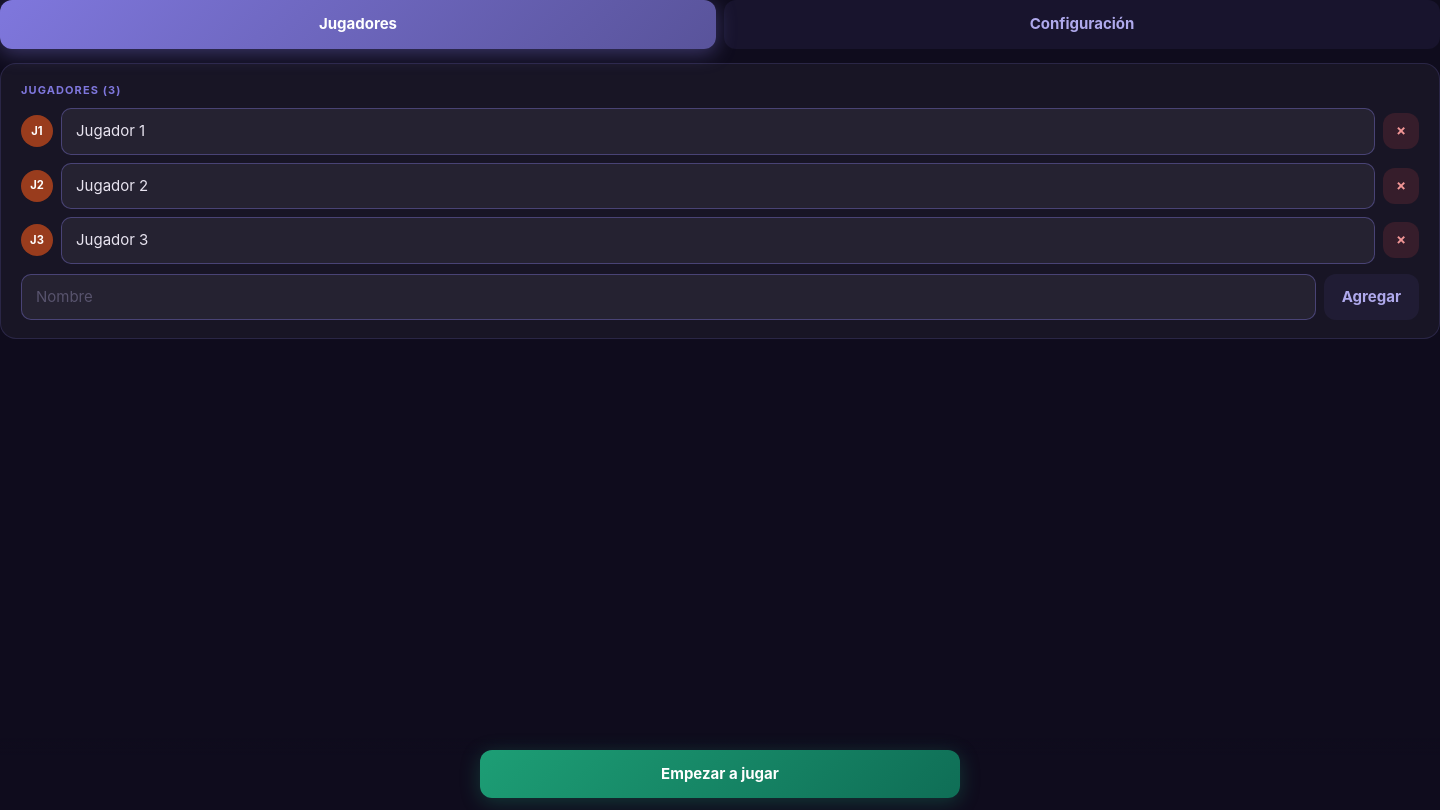
Limón Limón LocalGame › ending the match early asks for confirmation and shows the result
The width and height of the screenshot is (1440, 810).
Click the button "Empezar a jugar" at coordinates (720, 774), box [480,750,960,798]
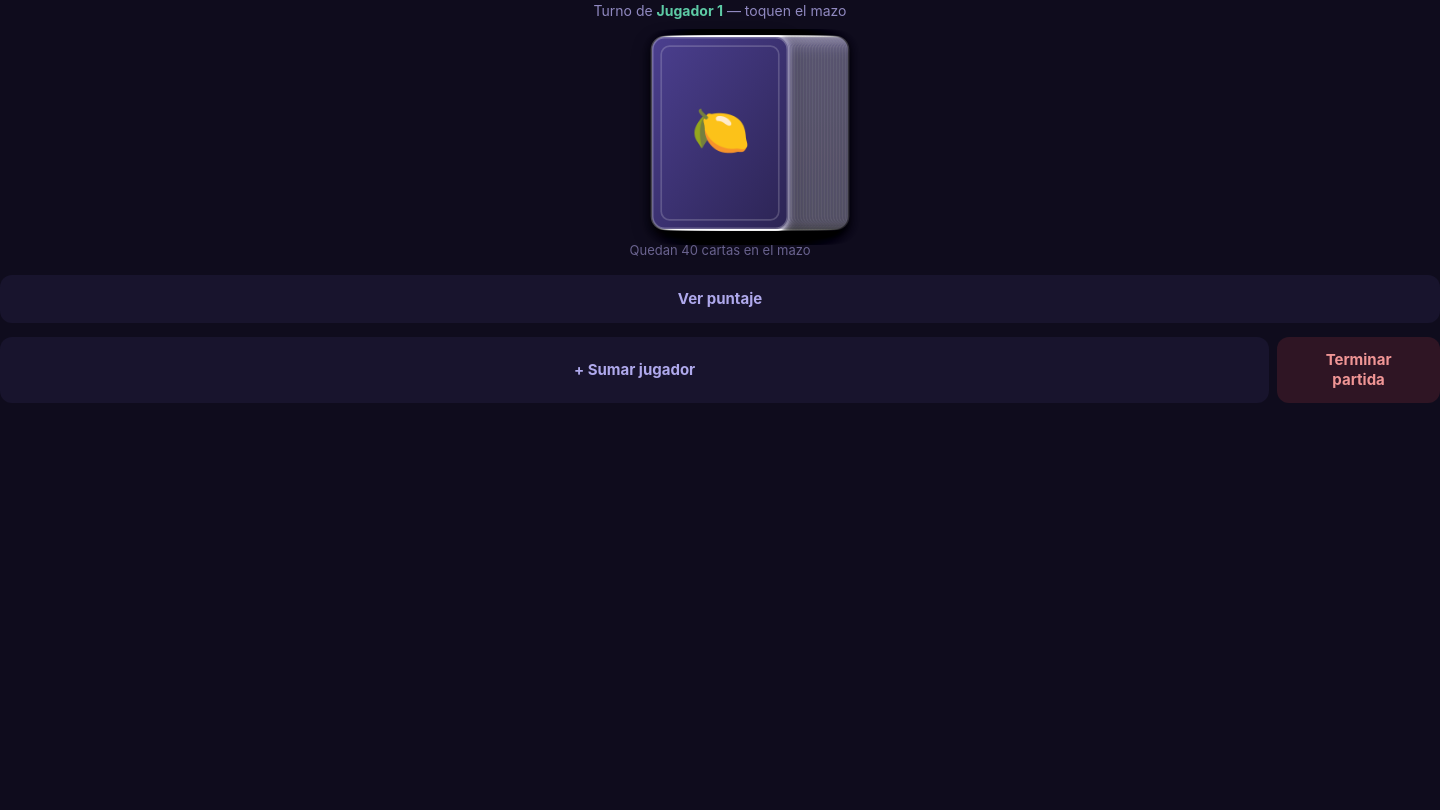
Click the button "Terminar partida" at coordinates (1359, 370), box [1277,337,1439,403]
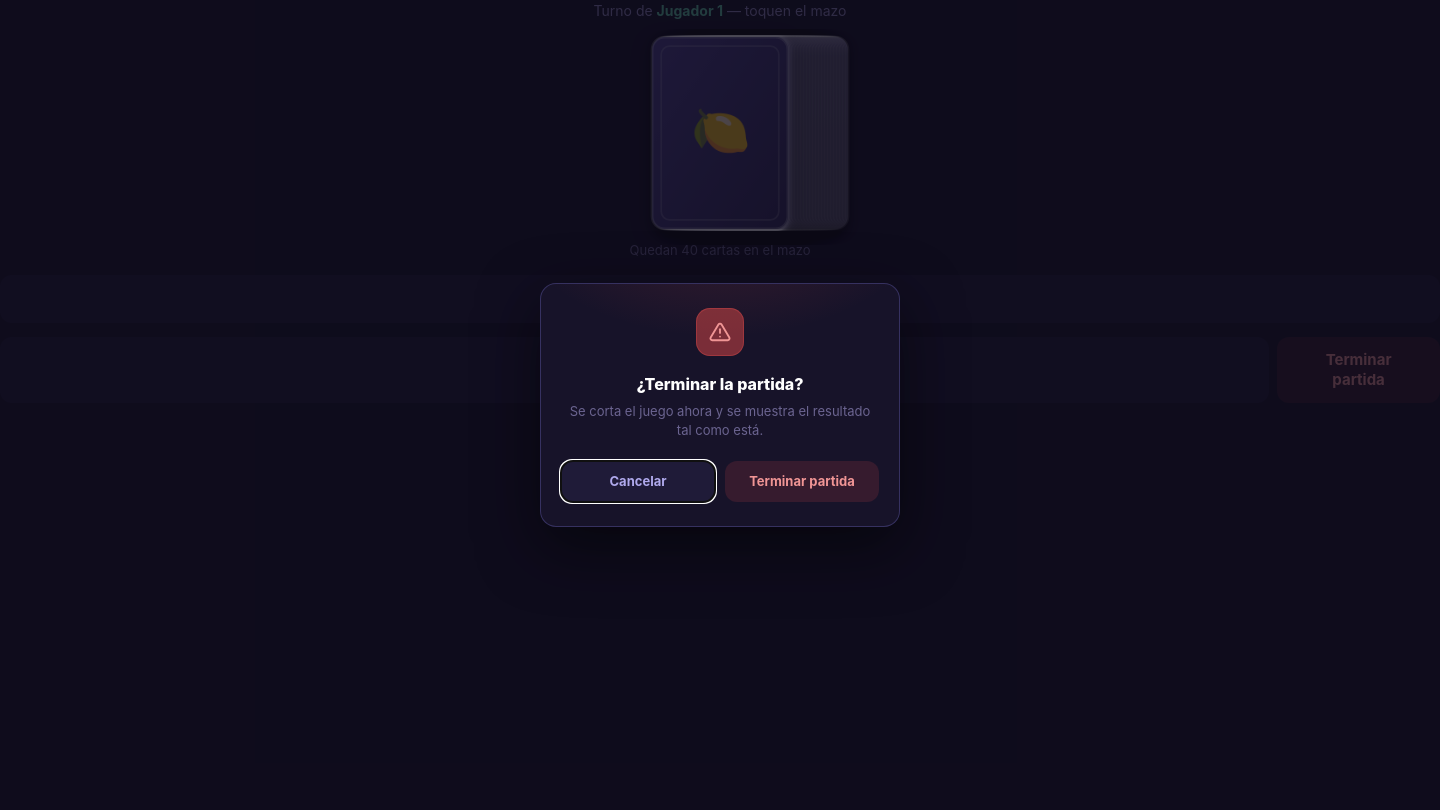
Expected: the text "¿Terminar la partida?" is shown, [636,374,804,394]
Click the button "Cancelar" at coordinates (638, 482), box [561,461,715,502]
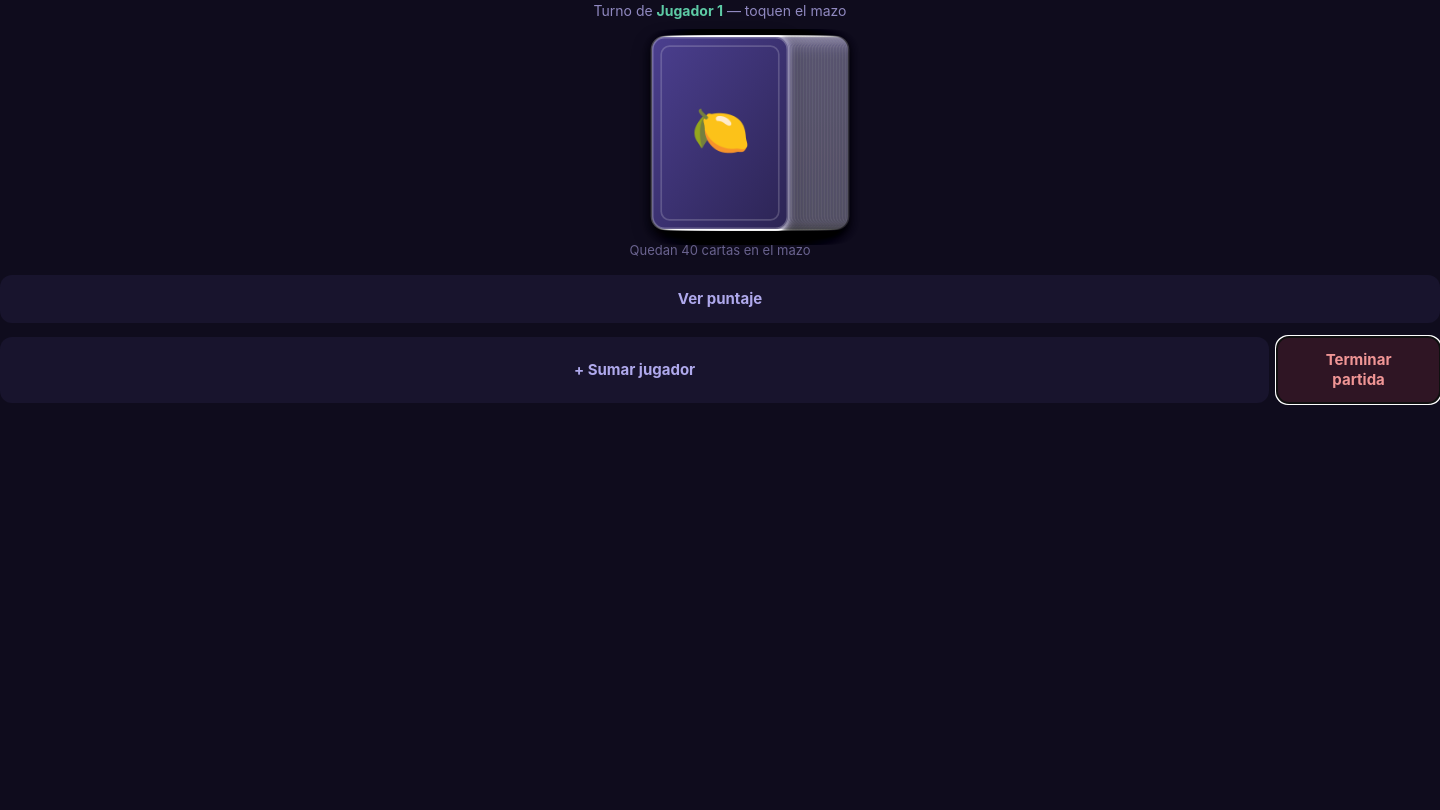
Expected: the text "¿Terminar la partida?" is gone
Click the button "Terminar partida" at coordinates (1359, 370), box [1277,337,1439,403]
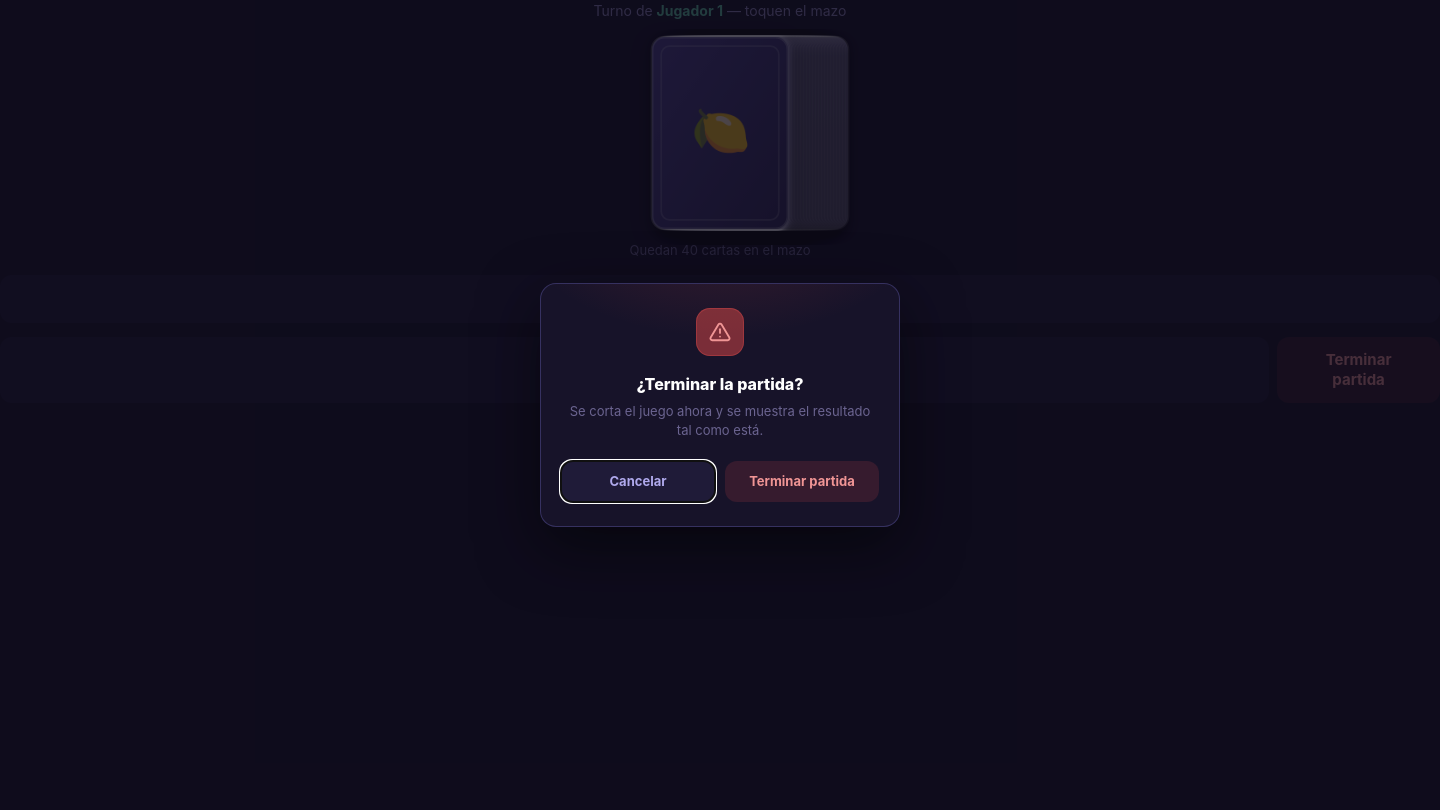
Click the button "Terminar partida" at coordinates (802, 482), box [725,461,879,502]
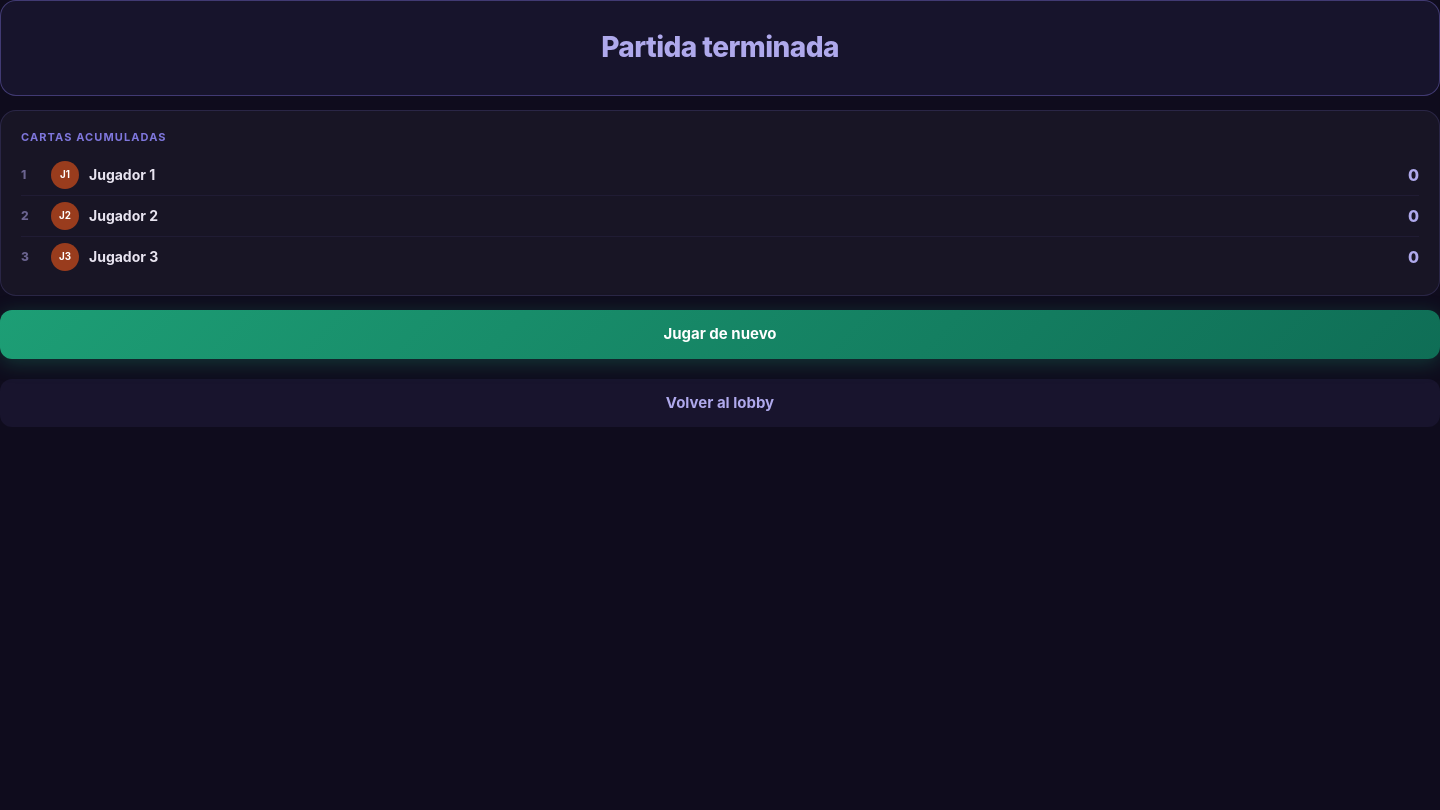
Expected: the text "Partida terminada" is shown, [601,30,839,64]
Expected: the text "Cartas acumuladas" is shown, [21,130,167,144]
